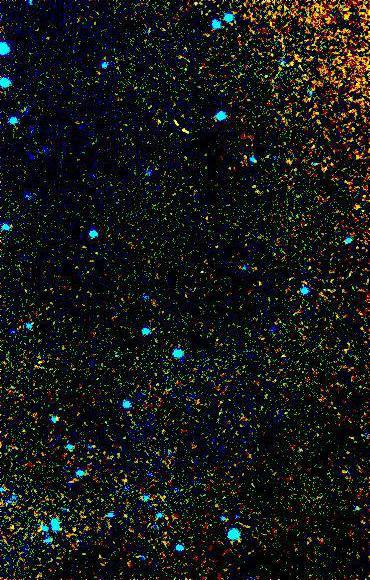star: (111, 472, 141, 502)
